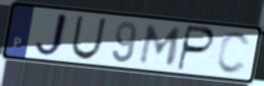9: (111, 20, 139, 65)
C: (214, 30, 252, 77)
J: (32, 11, 71, 60)
M: (137, 23, 185, 68)
P: (174, 24, 216, 73)
U: (69, 14, 109, 61)
